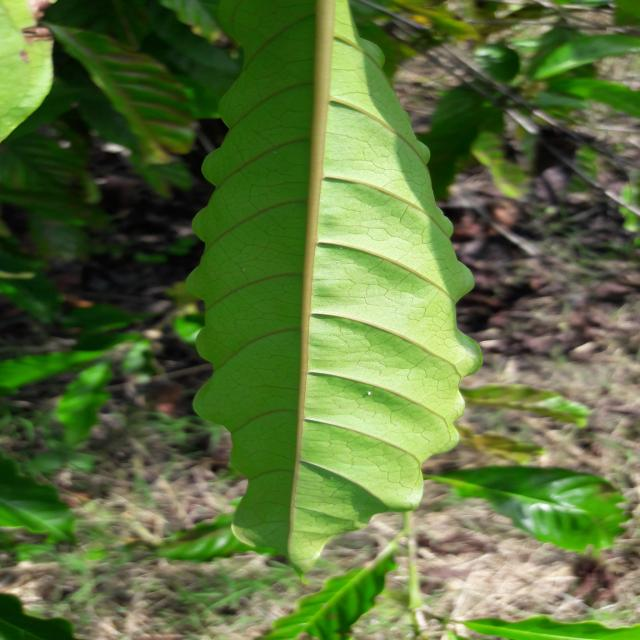Sanas: (192, 0, 483, 573)
